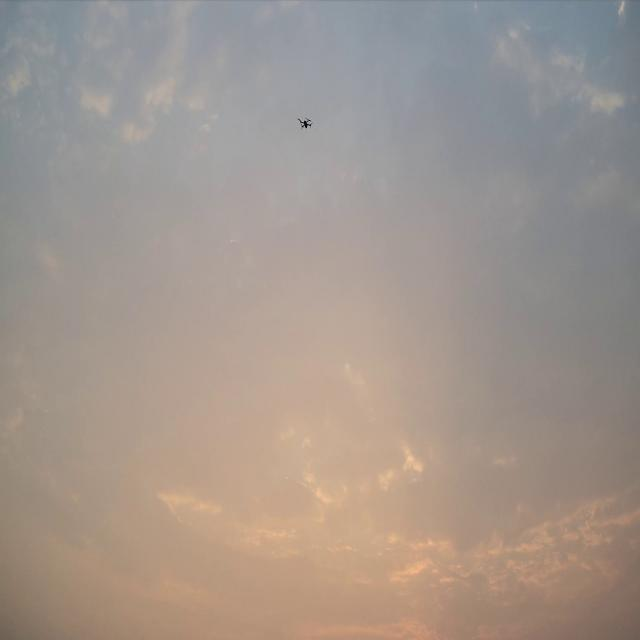drone: (297, 117, 314, 130)
